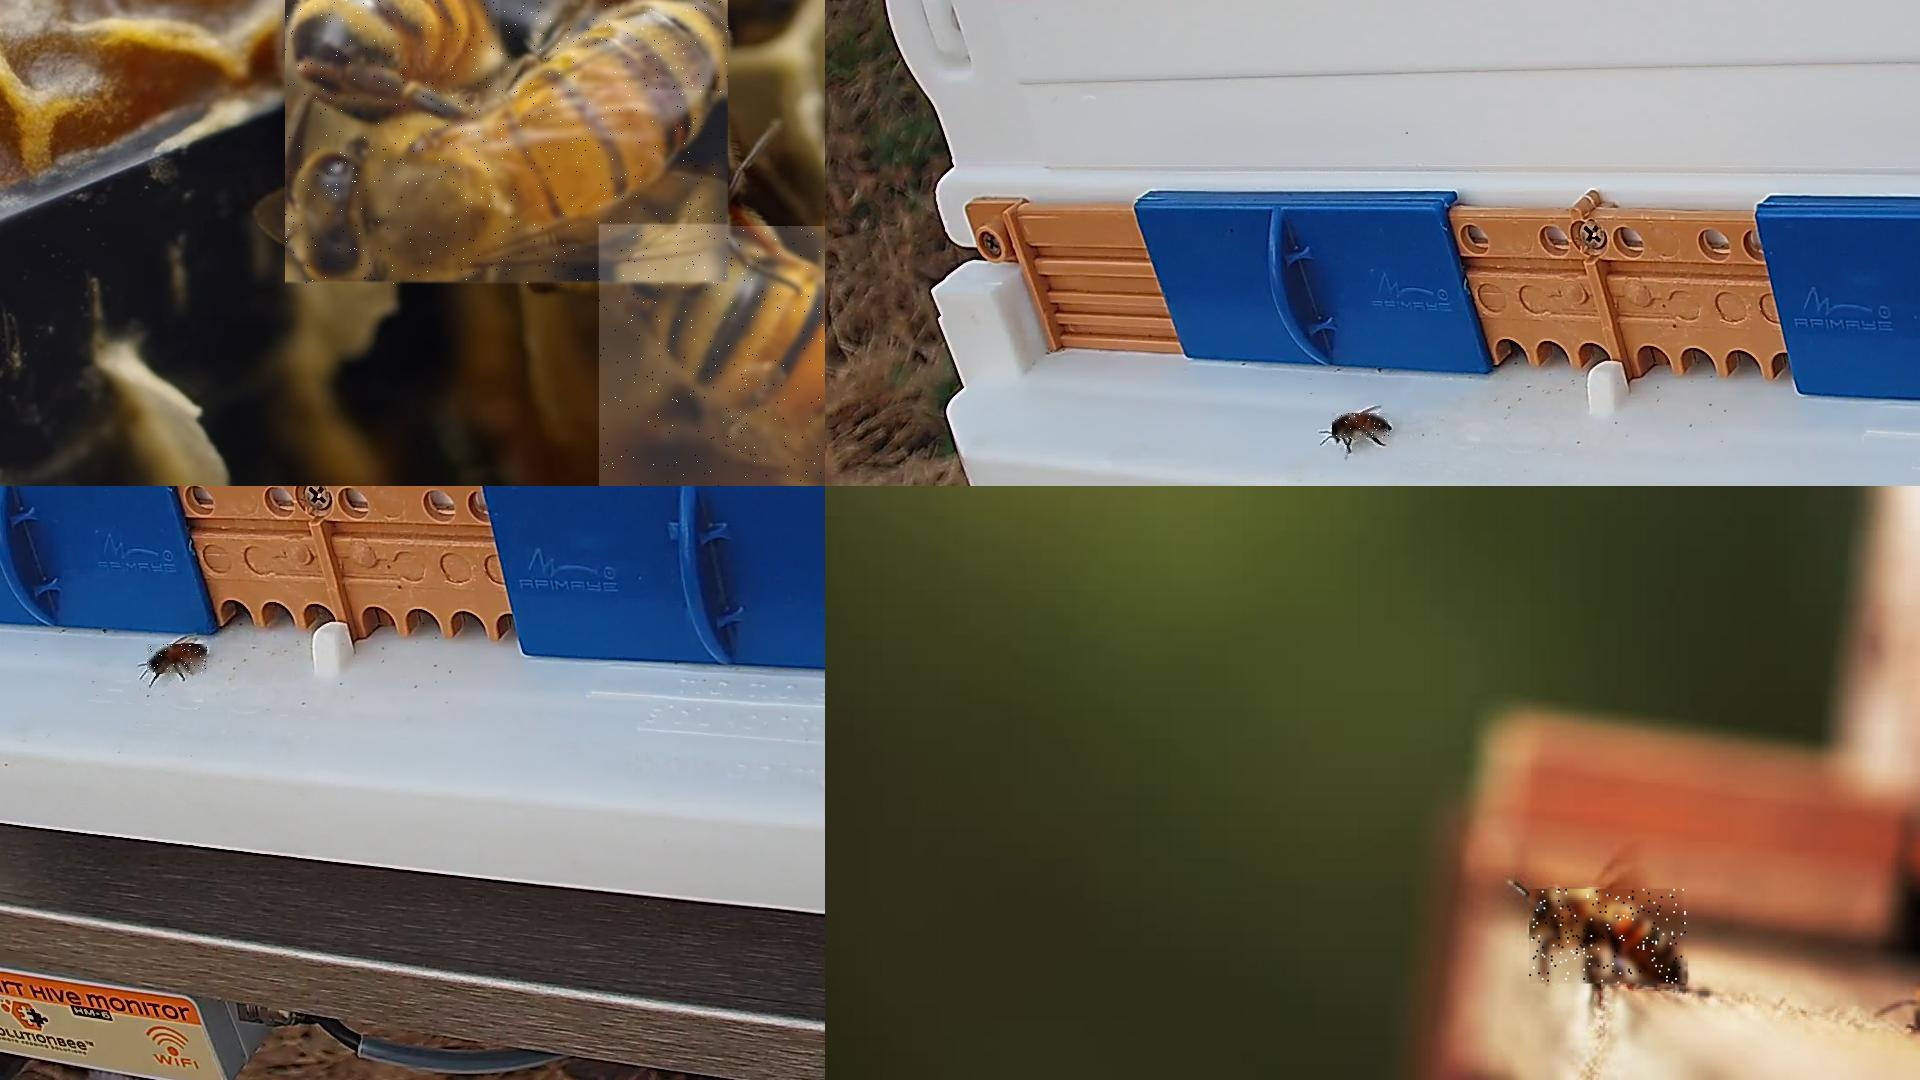bee: (285, 0, 731, 287), (599, 225, 824, 485), (500, 0, 728, 94), (1531, 889, 1689, 986), (148, 644, 208, 674), (1333, 414, 1391, 440)
